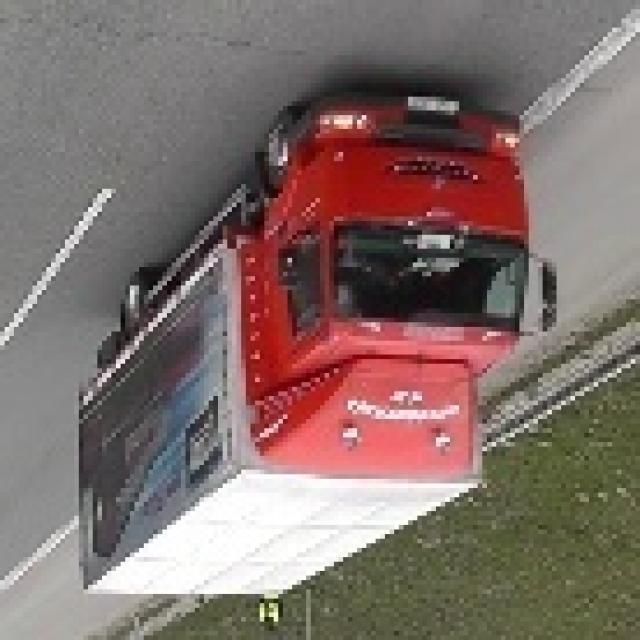truck: (69, 92, 552, 603)
